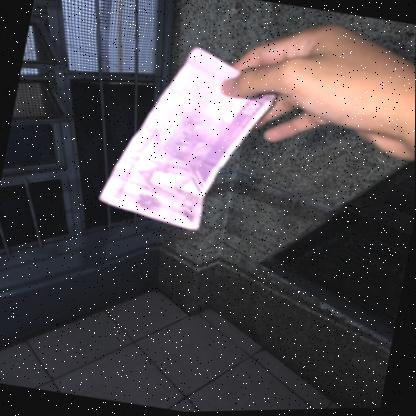one_hundred-back-vef: (95, 33, 282, 241)
